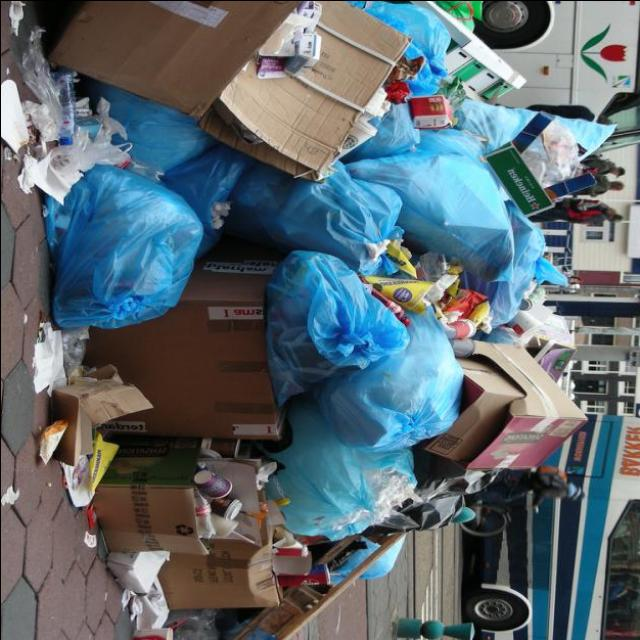plastik: (44, 165, 203, 327), (265, 394, 416, 539), (267, 250, 408, 403), (346, 150, 513, 279), (315, 307, 462, 450), (224, 161, 401, 273), (79, 77, 215, 171), (161, 144, 250, 255), (365, 0, 449, 94)
